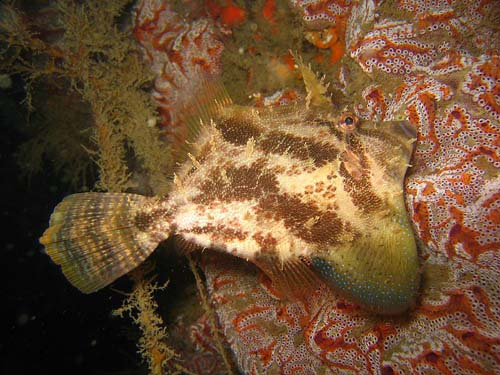fish: (39, 106, 421, 313)
